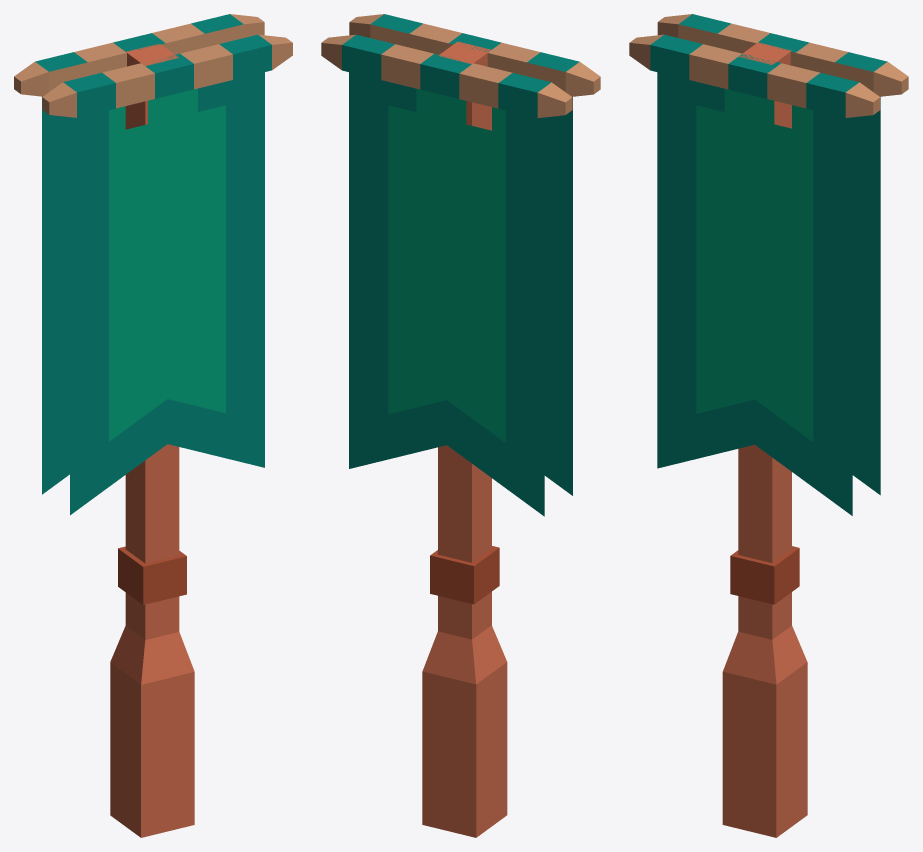
File: Flag.fbx
3 renders of one model, left to right at view 1: azimuth 30°, elevation 25°; view 2: azimuth 150°, elevation 25°; view 3: azimuth 330°, elevation 25°, orthographic.
Parts seen in each view (by area): view 1: mergedBlocks; view 2: mergedBlocks; view 3: mergedBlocks.
Boxes of the visible parts, <box> form: mergedBlocks: <box>14,14,292,837</box>; mergedBlocks: <box>321,14,600,837</box>; mergedBlocks: <box>629,14,908,837</box>.
Bounding box in the file's own units: 5 × 15 × 1.5.
